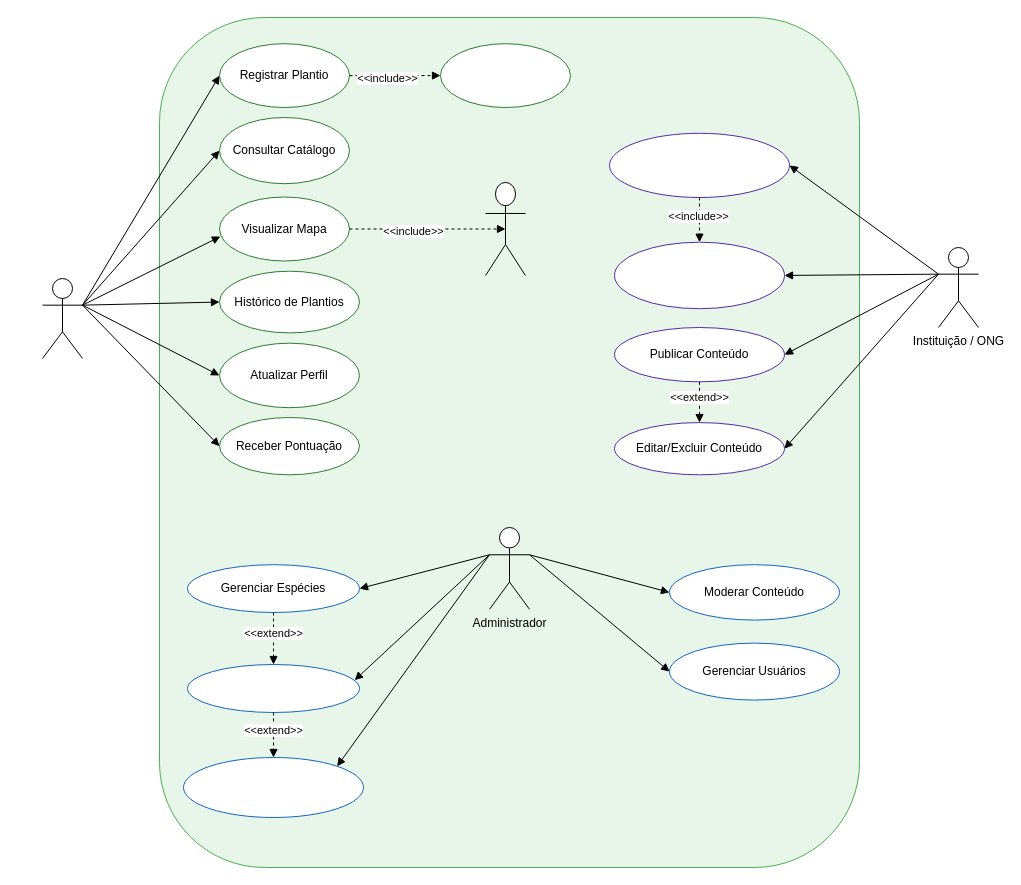
Image size: 1021x885. Some labels were removed from this diagram. The centre of each missing label's shape, as x and y in pixels:
Cadastrar Ponto de Retirada: the point at 699,275
Cidadão Comum: the point at 62,318
Gerar Relatórios e Estatísticas: the point at 273,787
Gerenciar Estoque de Mudas: the point at 699,165
Selecionar Espécie: the point at 505,75
Sistema de Geolocalização: the point at 505,228
Validar Plantio: the point at 273,688
